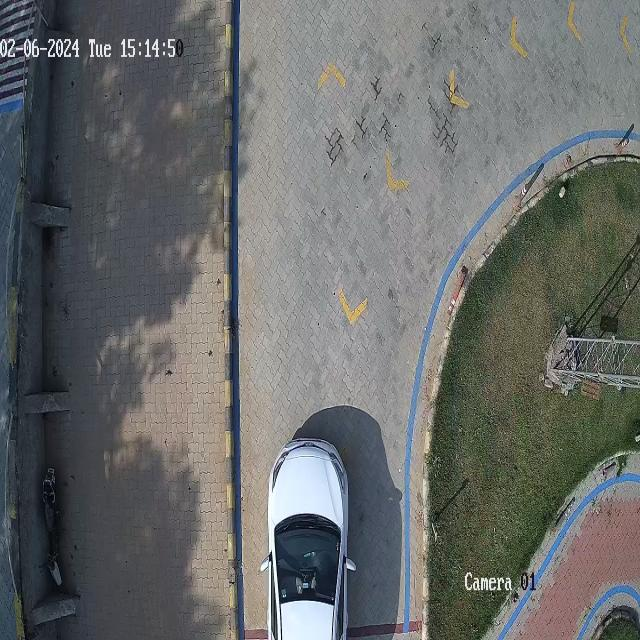car: (261, 440, 355, 640)
